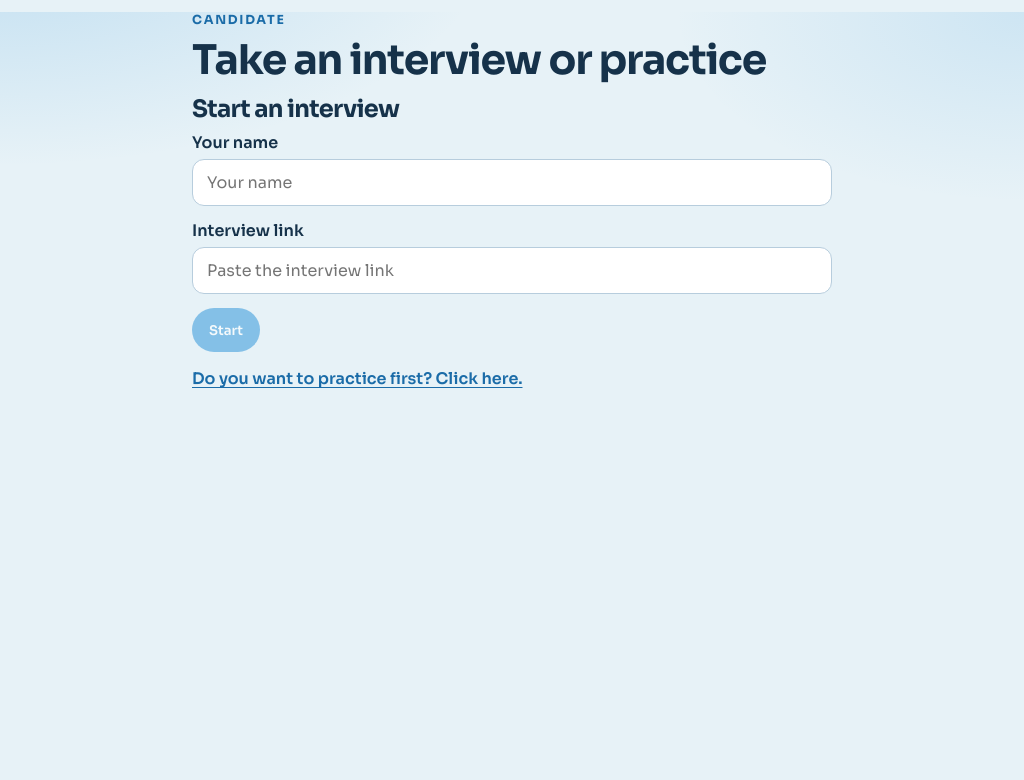
Test case: candidate tab stacks the interview link and expands practice
expect the heading "Take an interview or practice" is shown: met, box [192,34,832,86]
expect the heading "Start an interview" is shown: met, box [192,94,399,124]
Type "Ada" into the field labelled "Your name".
click(512, 182); type("Ada")  # box [192,159,832,206]
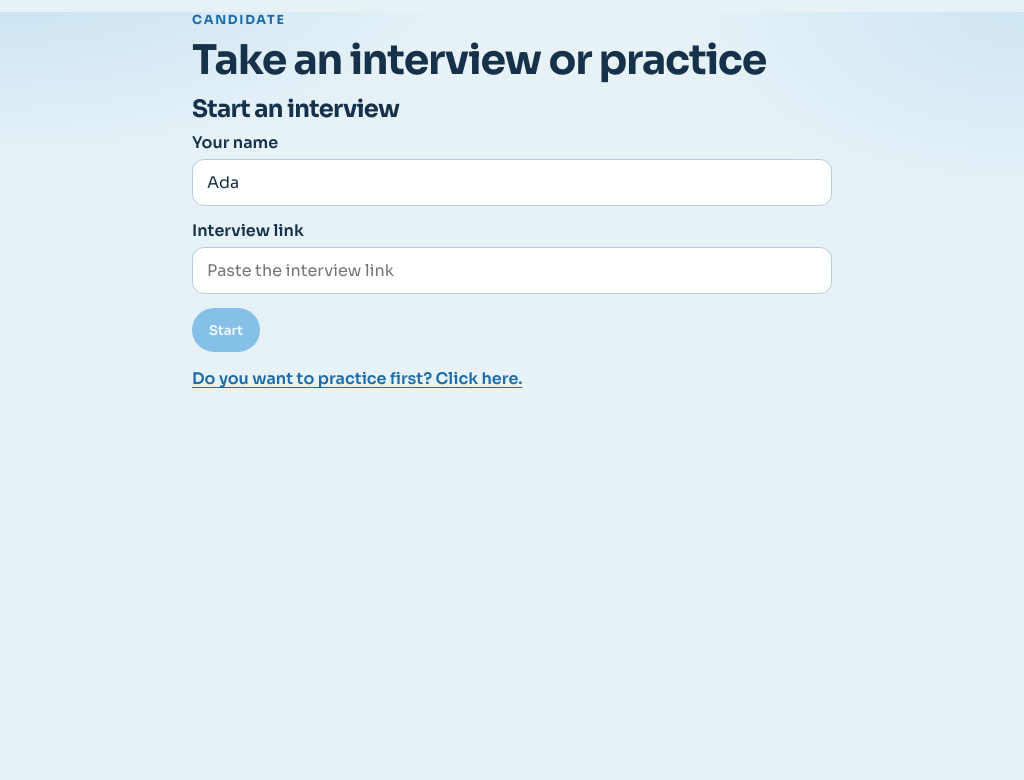
expect the button "Start" is disabled: met, box [192,308,260,352]
Click the link "Do you want to practice first? Click here.".
click(357, 378)  # box [192,368,522,389]
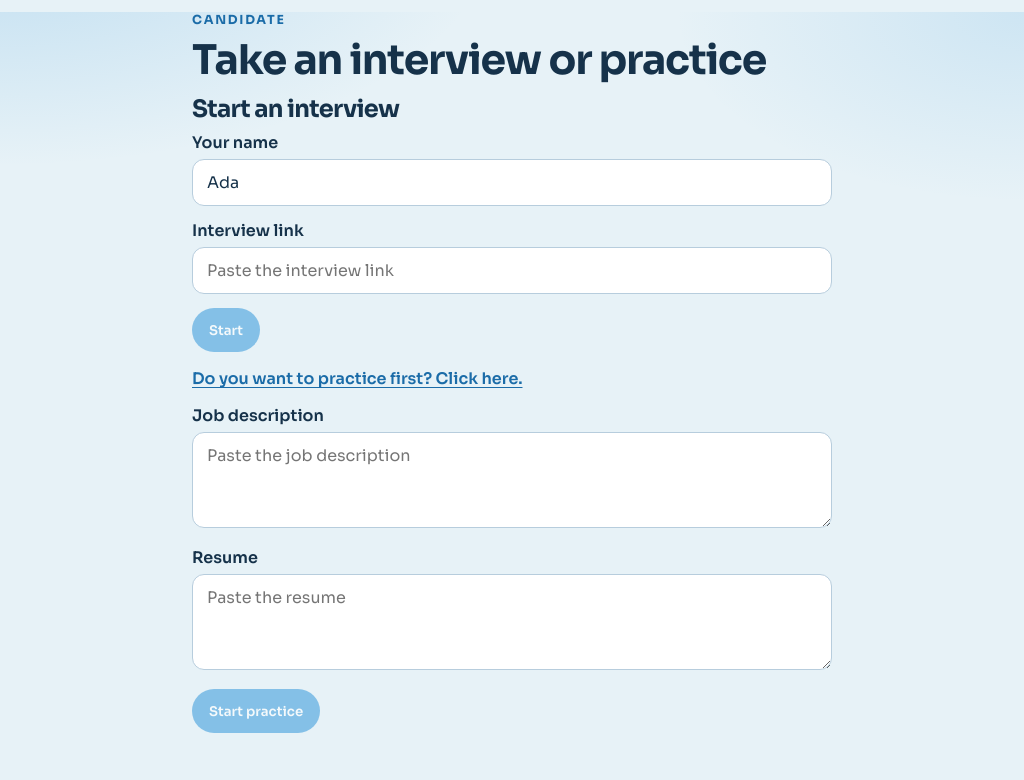
expect the button "Start practice" is disabled: met, box [192,689,320,733]
Type "Build APIs" into the text box labelled "Job description".
click(512, 480); type("Build APIs")  # box [192,432,832,528]
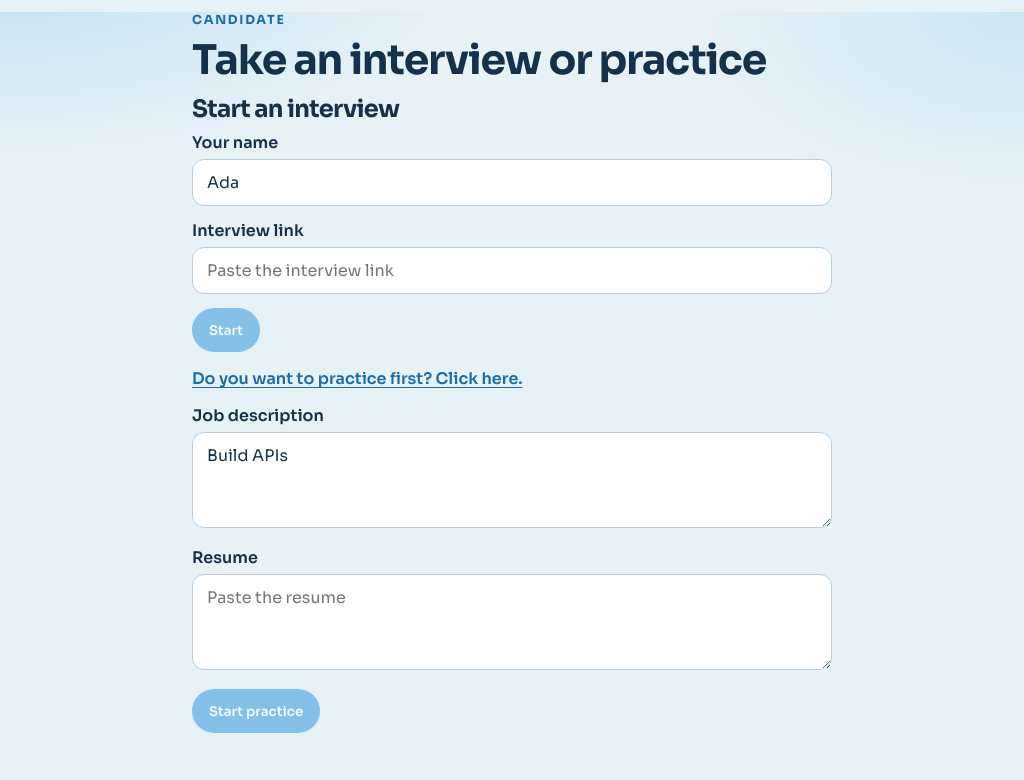
expect the button "Start practice" is disabled: met, box [192,689,320,733]
Type "Jane Doe" into the text box labelled "Resume".
click(512, 622); type("Jane Doe")  # box [192,574,832,670]
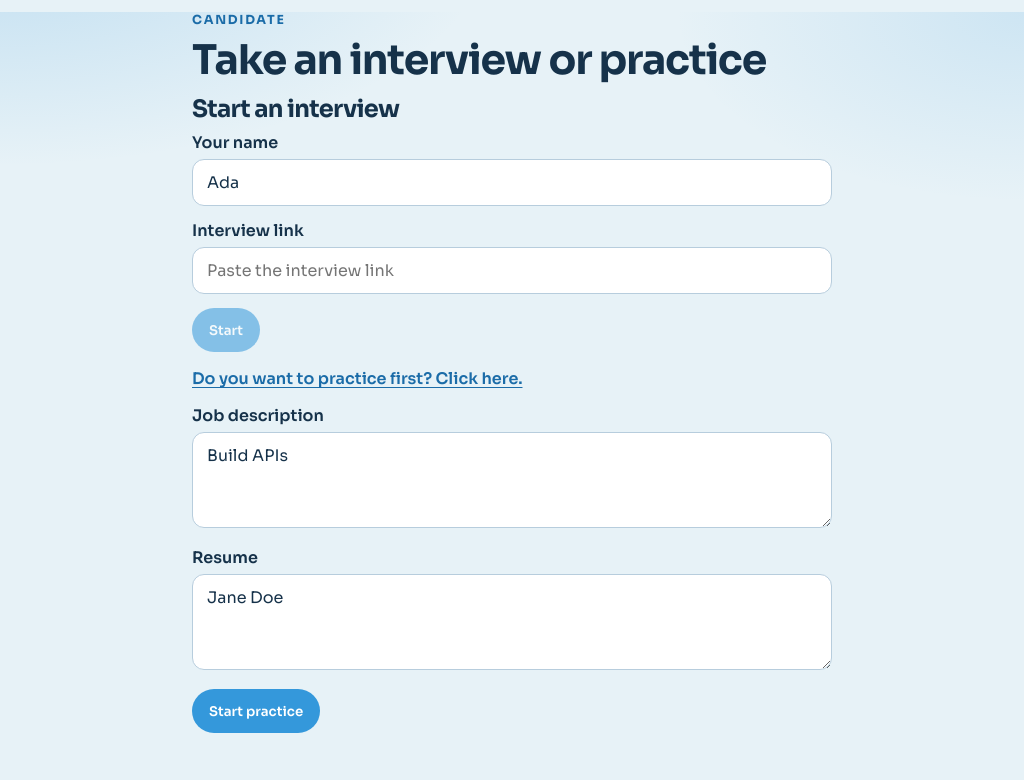
expect the button "Start practice" is enabled: met, box [192,689,320,733]
